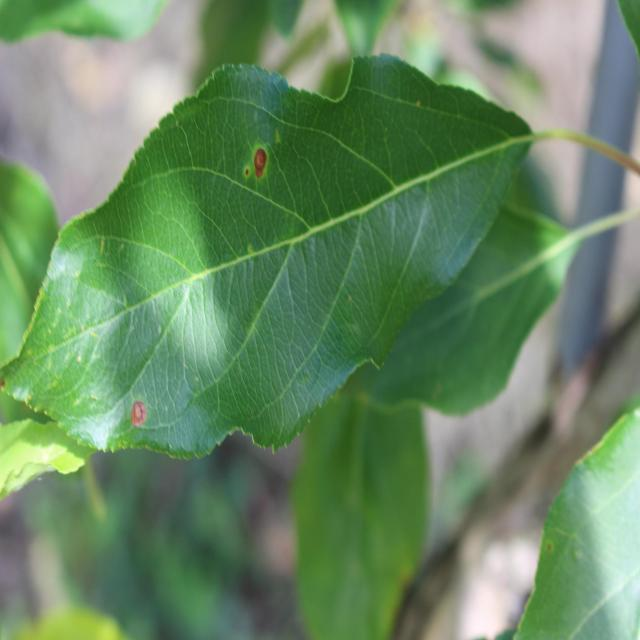Black Rot: (234, 132, 274, 199), (121, 389, 151, 439)
